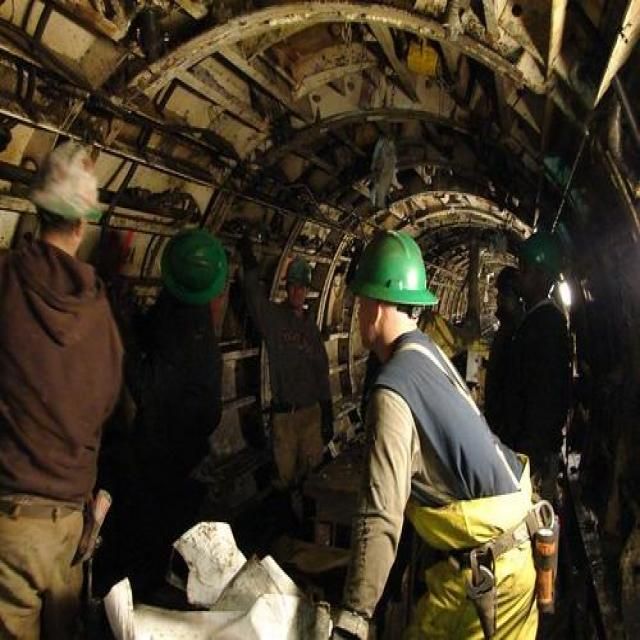Safety-Helmet: (343, 224, 444, 318)
